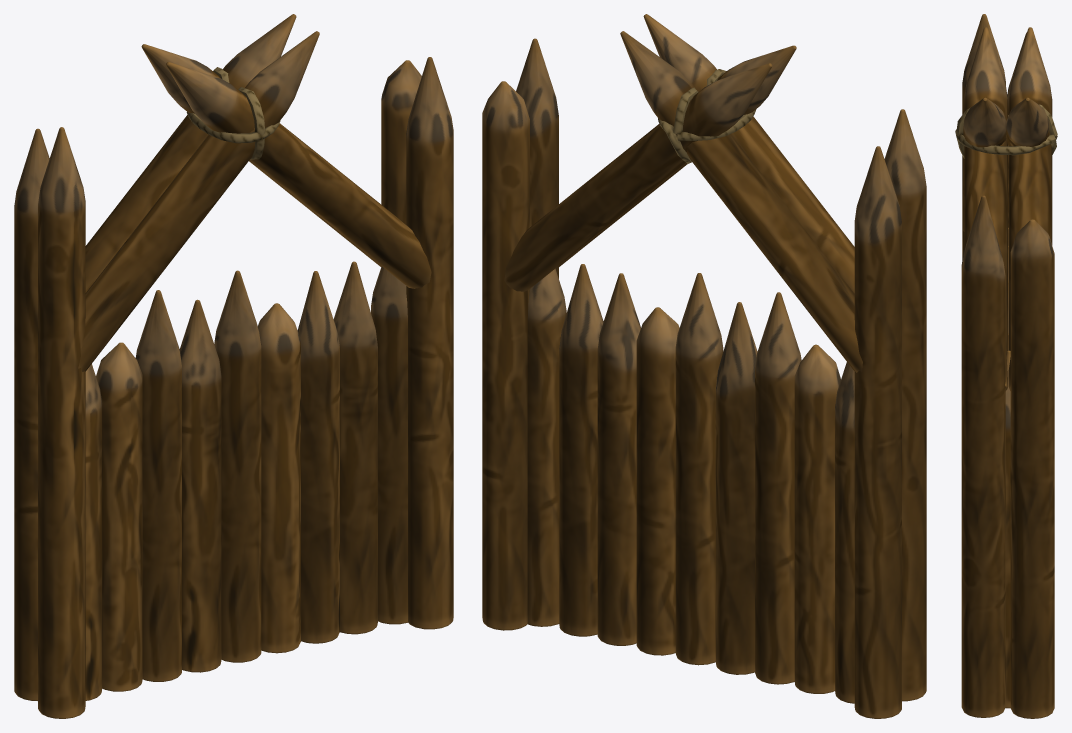
File: Spike_Wall_a01.fbx
3 views of the same model, side by side, from view 1: azimuth 30°, elevation 25°; view 2: azimuth 150°, elevation 25°; view 3: azimuth 270°, elevation 25° (orthographic). The views are drawn at different scales.
Visible parts, largest first — view 1: Spike_Wall_a01; view 2: Spike_Wall_a01; view 3: Spike_Wall_a01.
Boxes of the visible parts, <box> form: Spike_Wall_a01: <box>14,14,453,718</box>; Spike_Wall_a01: <box>482,14,926,718</box>; Spike_Wall_a01: <box>955,14,1057,718</box>.
Size of the model in its own units: 2.73 by 3.94 by 0.6474.
